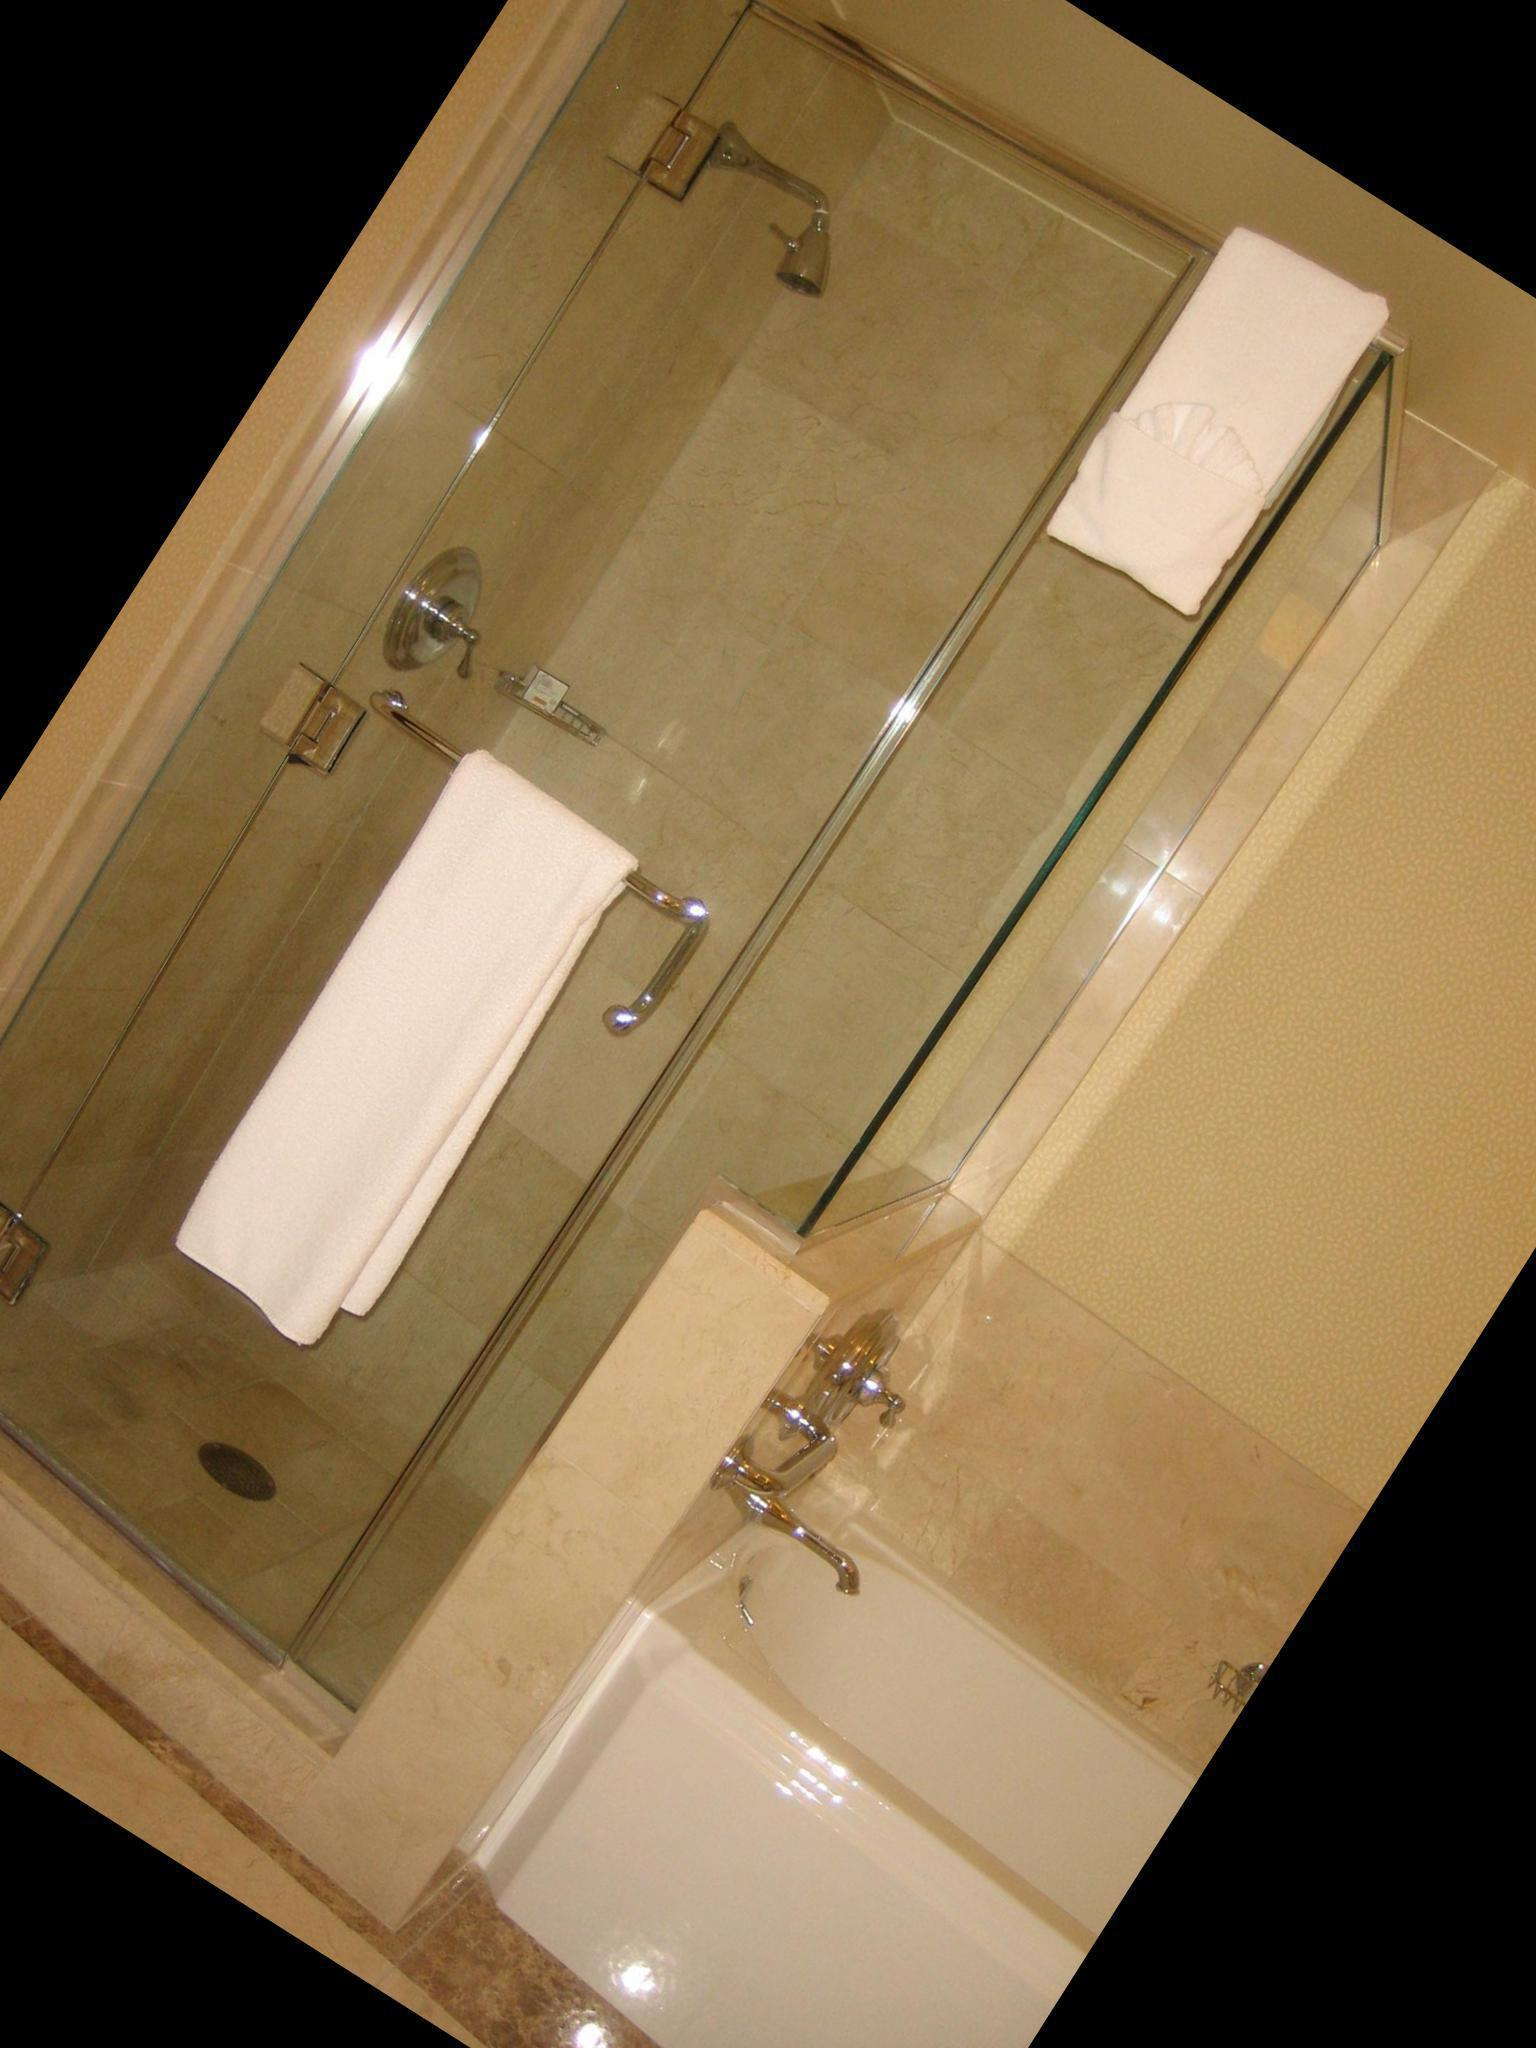Ducha: (0, 0, 1394, 1830)
